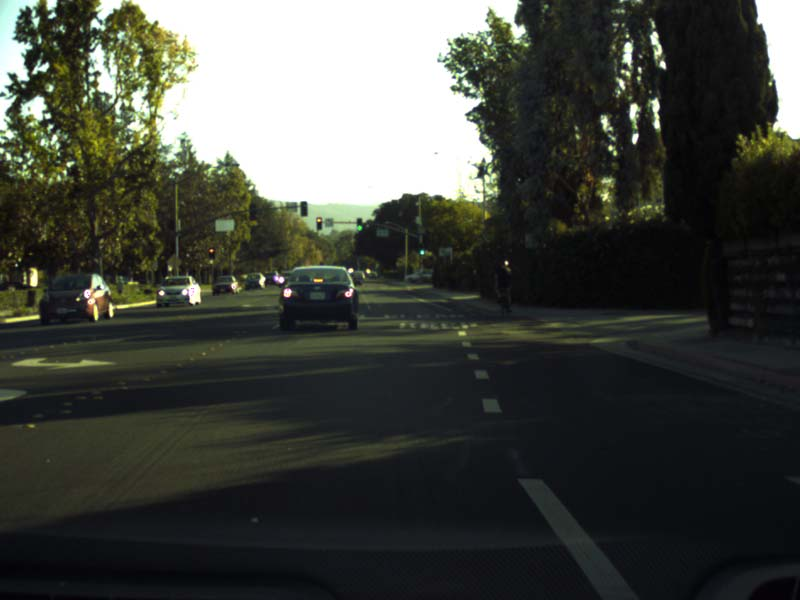Green: (418, 242, 424, 258), (356, 217, 362, 230)
Red: (207, 245, 215, 260), (315, 216, 321, 228)
